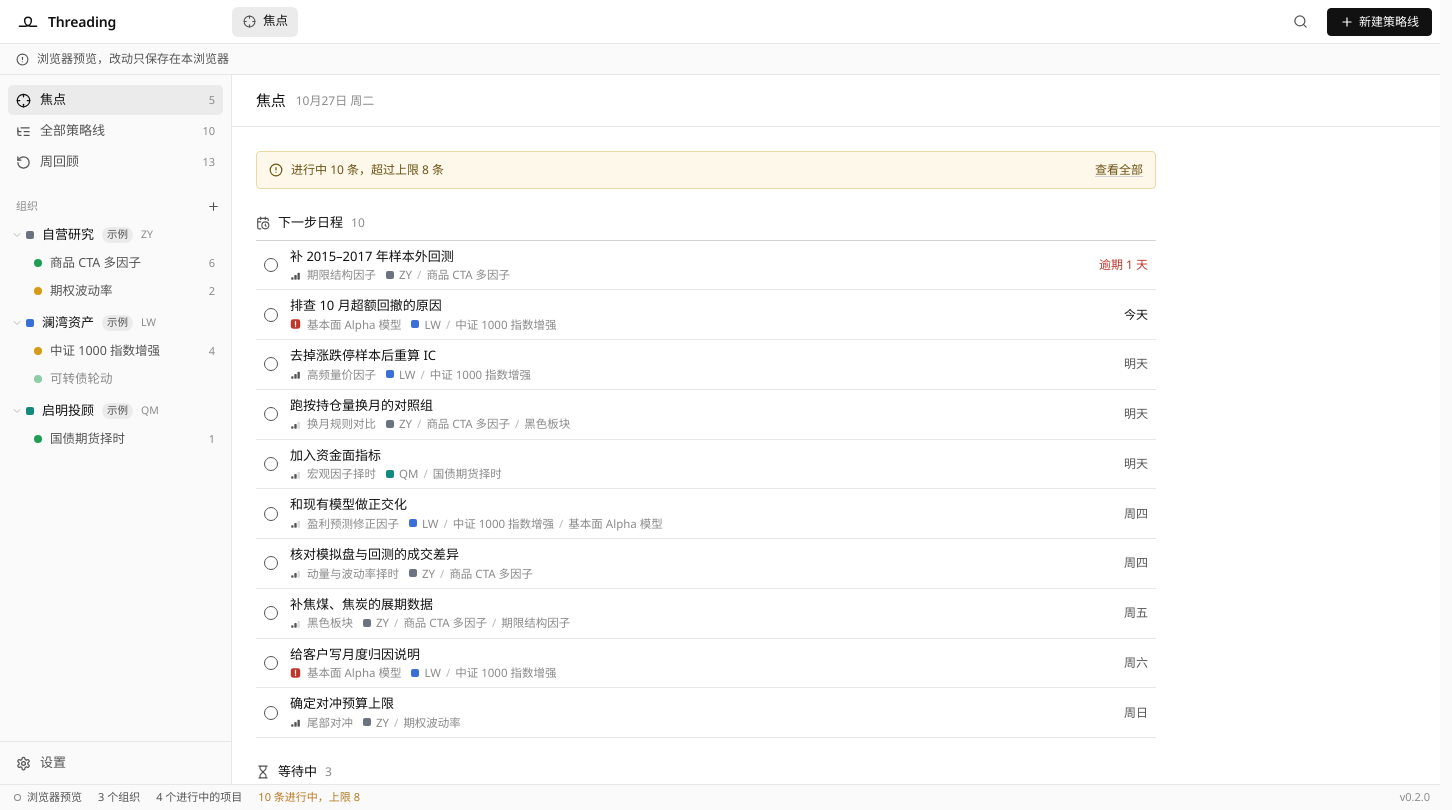
Test: Threading › opens each project in a tab of its own that keeps its place
The image size is (1452, 810).
expect the heading "焦点" is shown: met, box top-left (256, 89), bottom-right (286, 112)
Click the button "期权波动率 2": (116, 291) top-left (8, 277), bottom-right (223, 305)
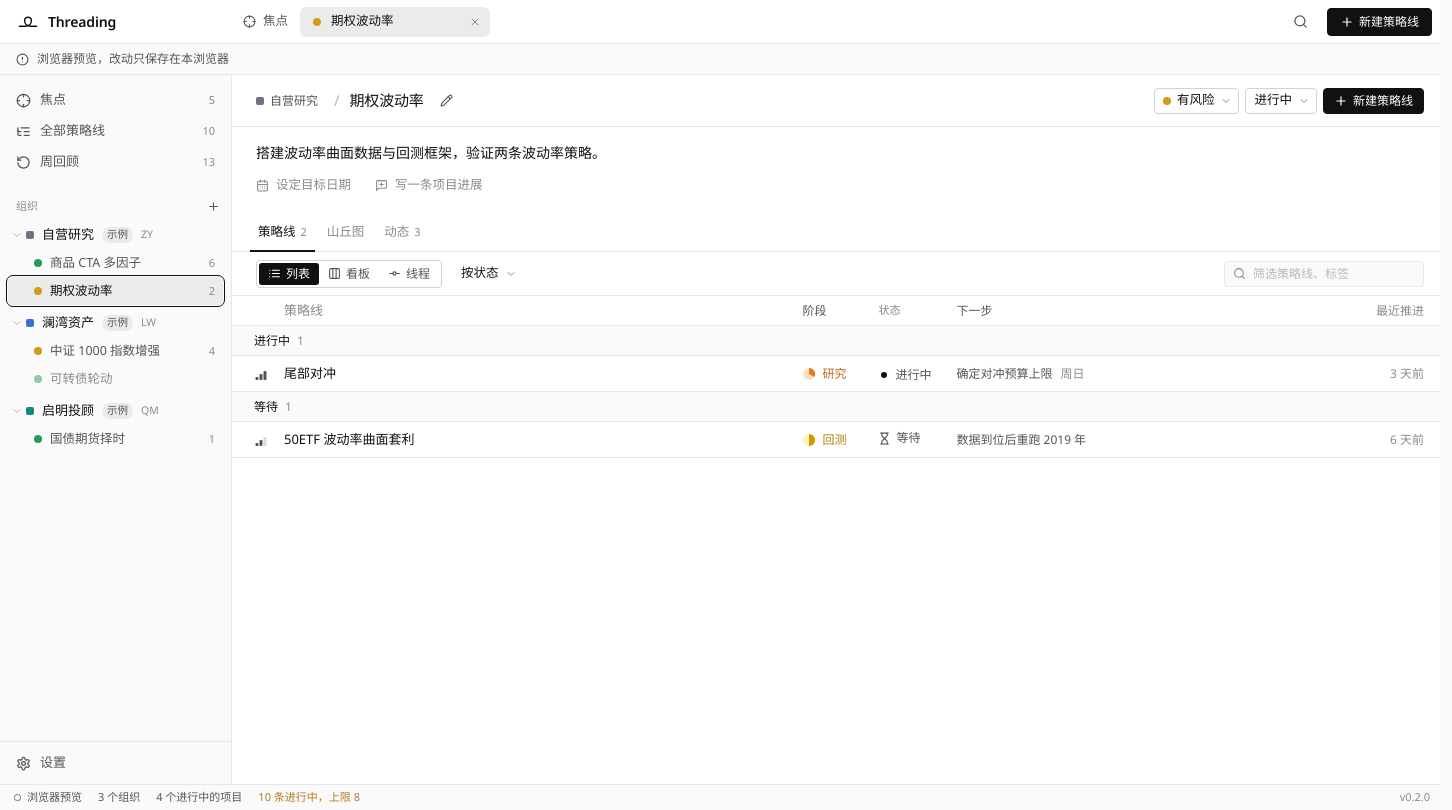
expect the tab "期权波动率" is shown: met, box top-left (300, 6), bottom-right (470, 36)
Click the text "50ETF 波动率曲面套利": (349, 440) top-left (284, 430), bottom-right (414, 449)
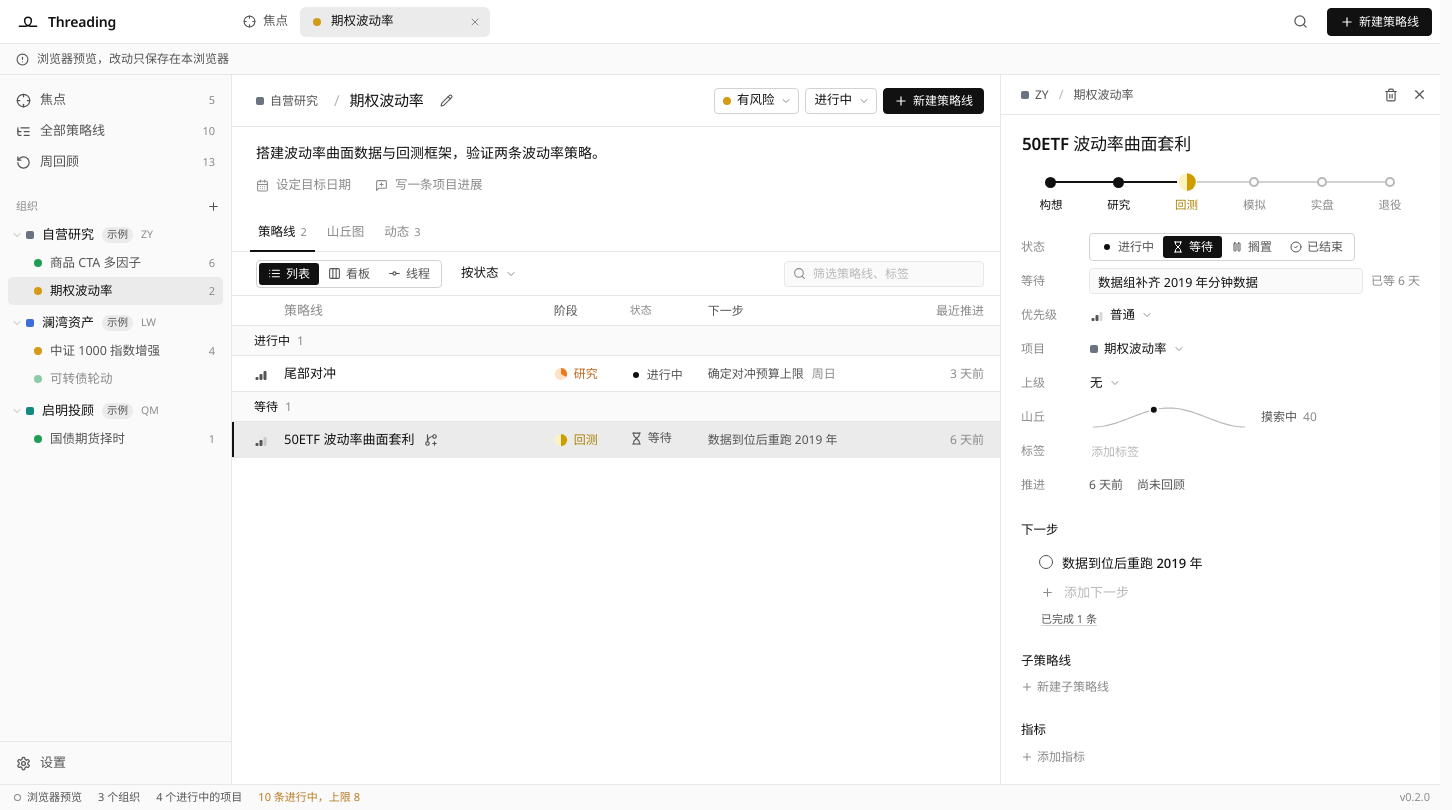
expect the element named "策略线：50ETF 波动率曲面套利" is shown: met, box top-left (1000, 75), bottom-right (1440, 784)
Click the button "周回顾 13": (116, 162) top-left (8, 147), bottom-right (223, 177)
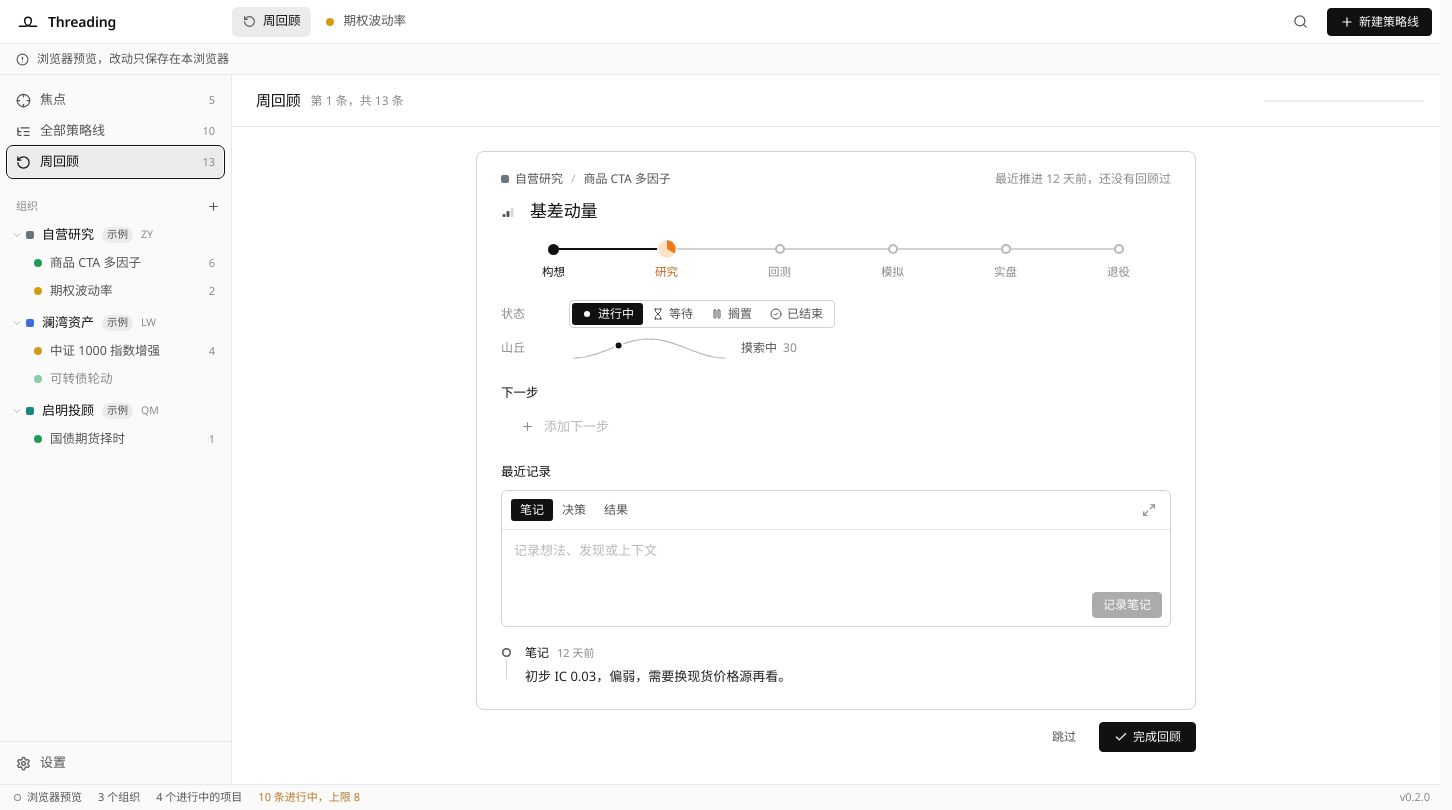
expect the tab "周回顾" is shown: met, box top-left (232, 6), bottom-right (310, 36)
Click the tab "期权波动率": (398, 22) top-left (312, 6), bottom-right (482, 36)
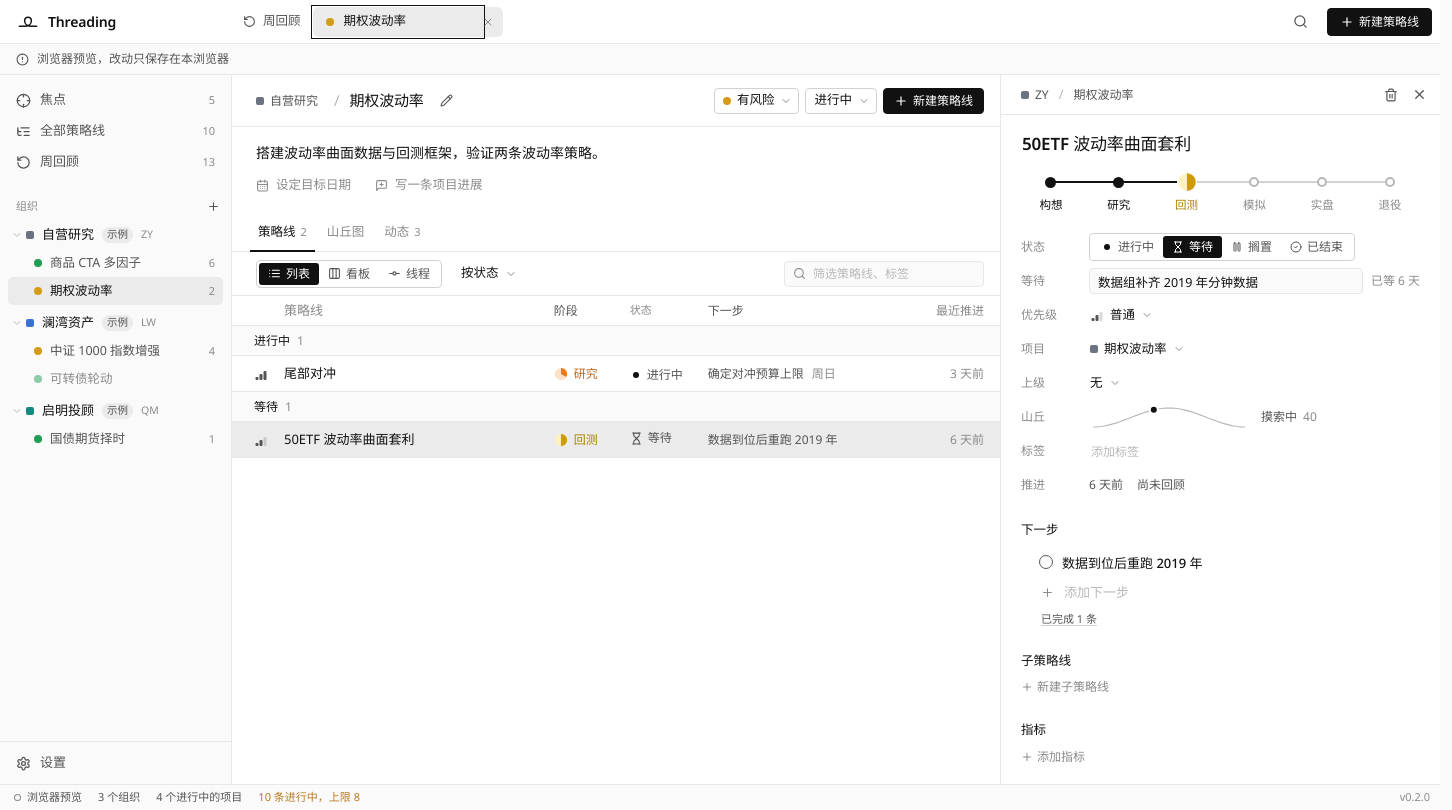
expect the element named "策略线：50ETF 波动率曲面套利" is shown: met, box top-left (1000, 75), bottom-right (1440, 784)
# Opening the project again brings back its tab instead of adding one.
Click the button "期权波动率 2": (116, 291) top-left (8, 277), bottom-right (223, 305)
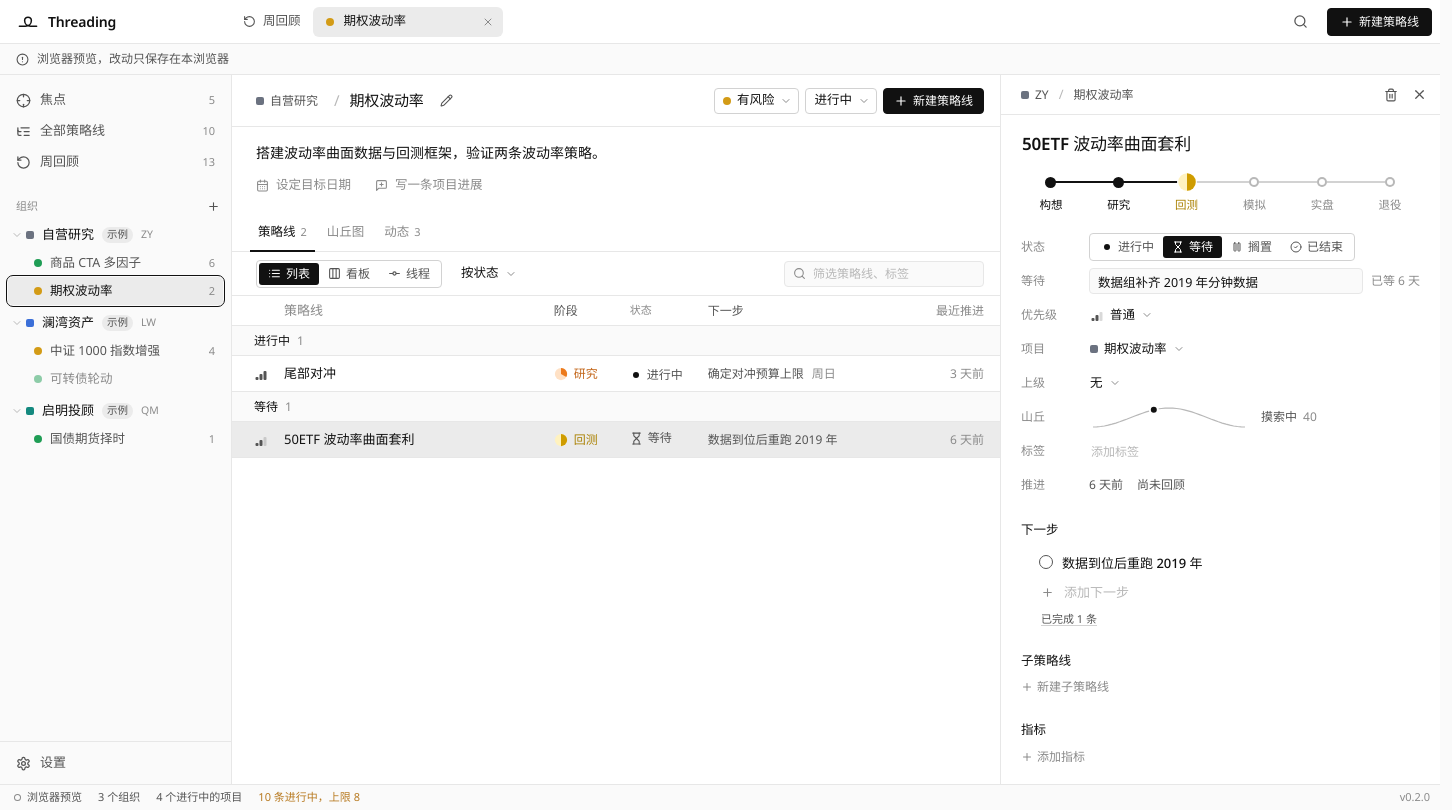
expect the number of tabs is 2: met, box top-left (232, 6), bottom-right (310, 36); top-left (312, 6), bottom-right (482, 36)
Click the button named "关闭 期权波动率": (488, 22) top-left (478, 12), bottom-right (498, 32)
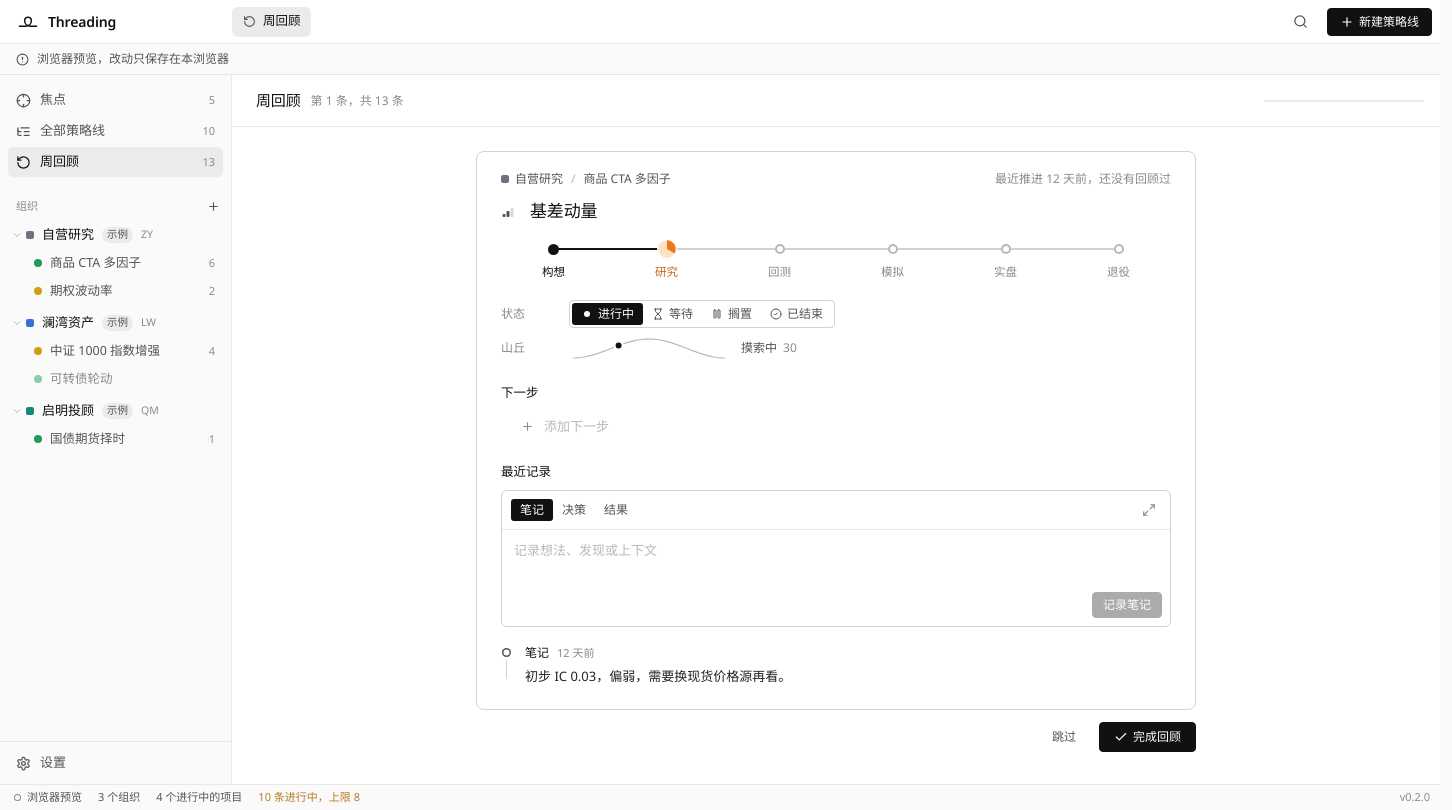
expect the number of tabs is 1: met, box top-left (232, 6), bottom-right (310, 36)
expect the heading "周回顾" is shown: met, box top-left (256, 89), bottom-right (301, 112)
